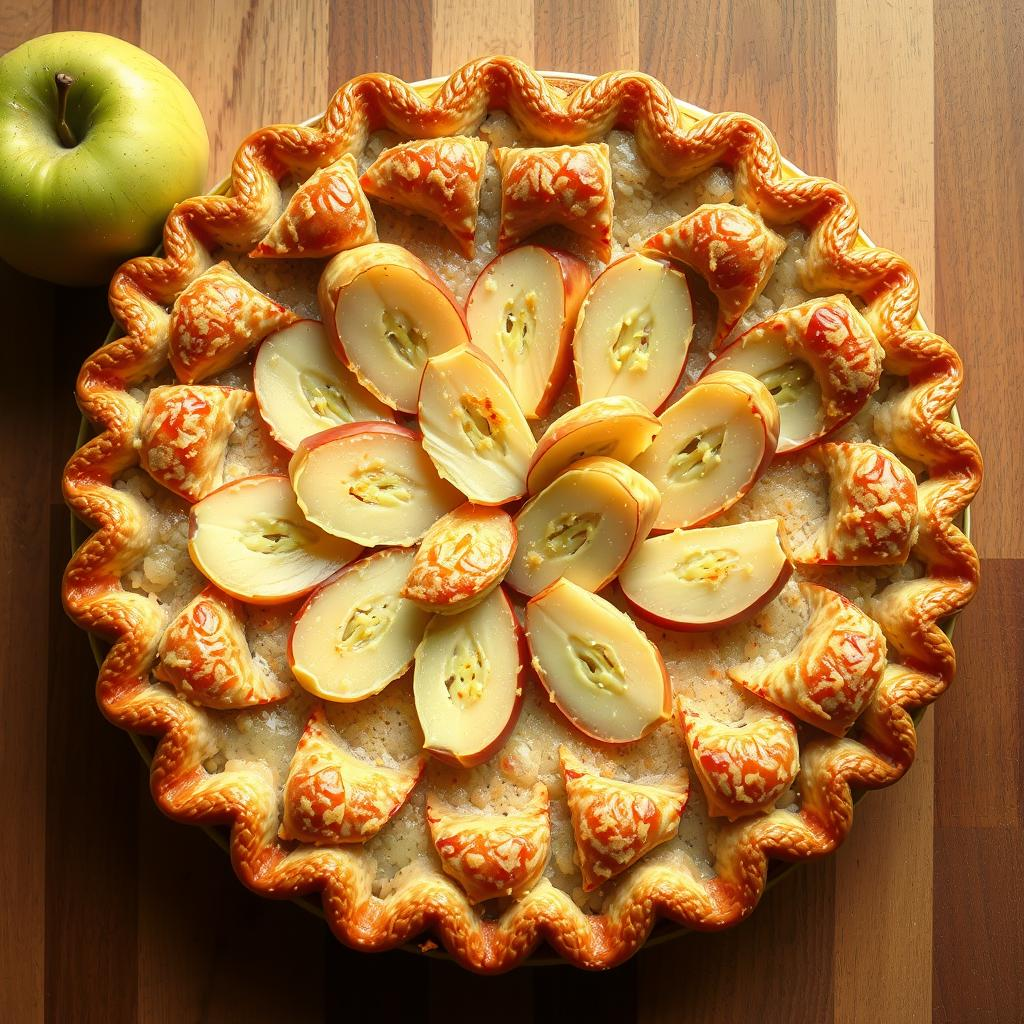pie: (49, 51, 991, 984)
